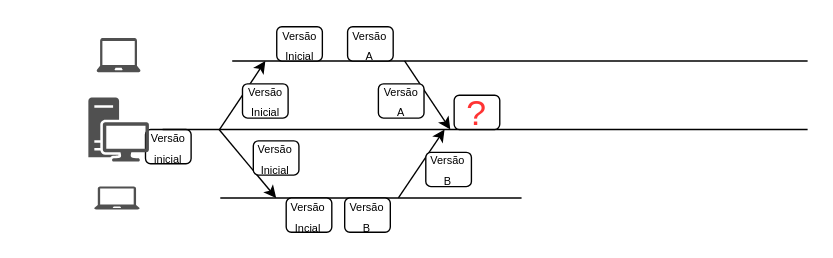
This 833x258 diagram has some shape labels left out. Each missing label, with the box of its shape:
Cliente 1: (96, 37, 140, 72)
Cliente 2: (93, 186, 139, 209)
Servidor: (88, 97, 148, 161)
